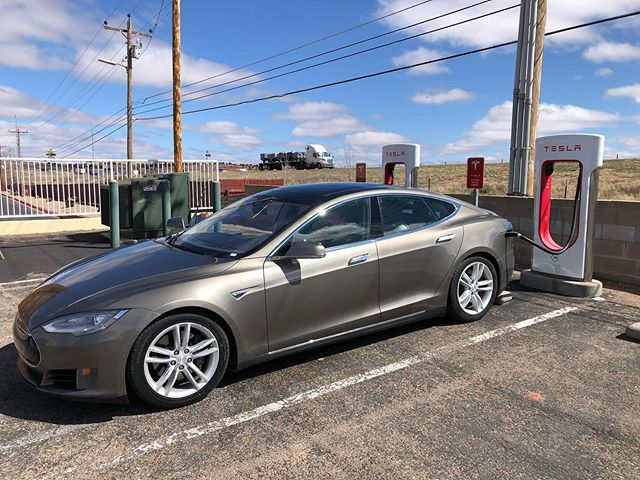car: (20, 172, 515, 398)
power pole: (99, 8, 156, 161)
sky: (12, 1, 640, 155)
truck: (261, 144, 343, 169)
